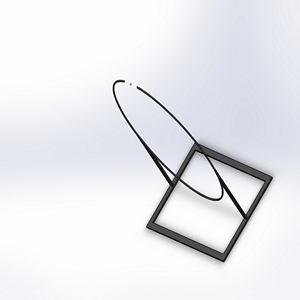circle: (109, 76, 275, 264)
